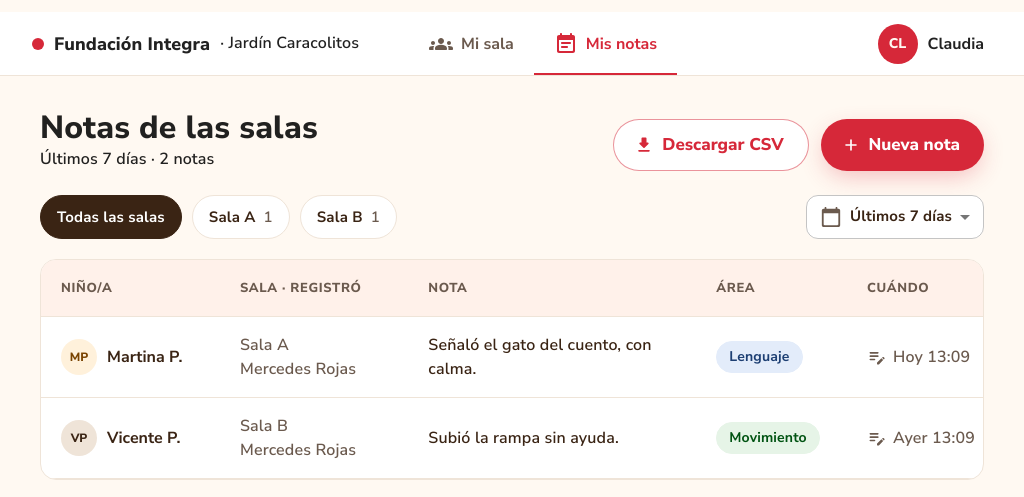
Scenario: PanelSalas › filtra por sala
Expected: the text "Últimos 7 días · 2 notas" is shown, [40,148,214,170]
Click the button "Sala B1": (348, 217) [300,195,397,239]
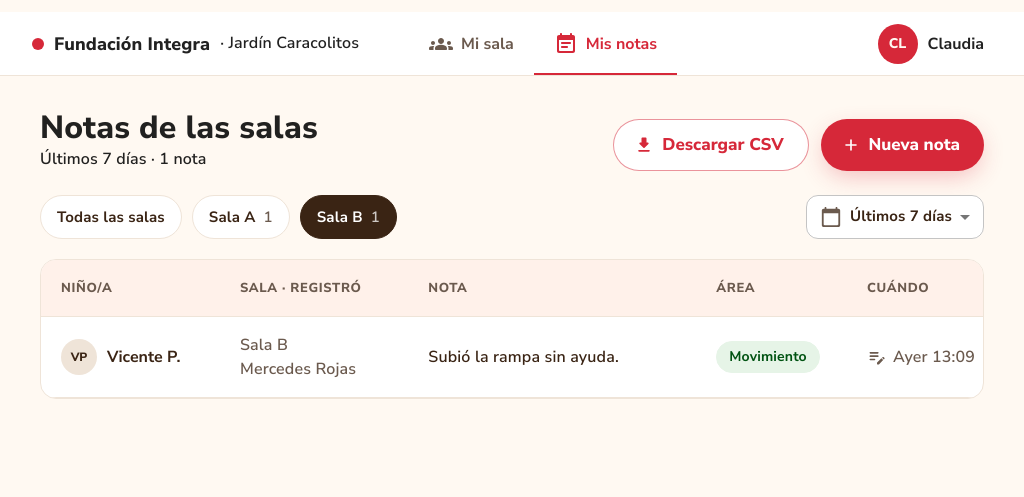
Expected: the text "Vicente P." is shown, [107,346,180,368]
Expected: the text "Últimos 7 días · 1 nota" is shown, [40,148,207,170]
